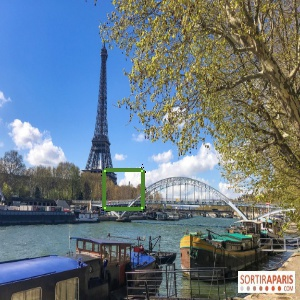square: (101, 168, 146, 212)
